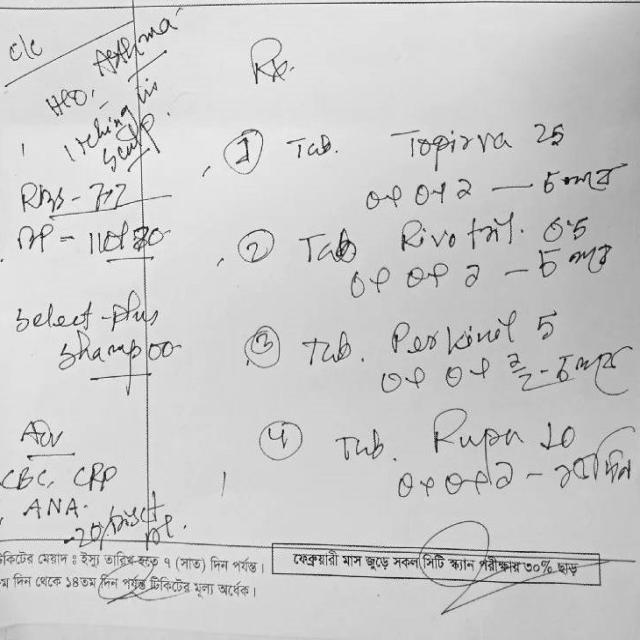medicine: (378, 309, 524, 356), (387, 118, 521, 168), (424, 404, 532, 462), (394, 210, 526, 254)
